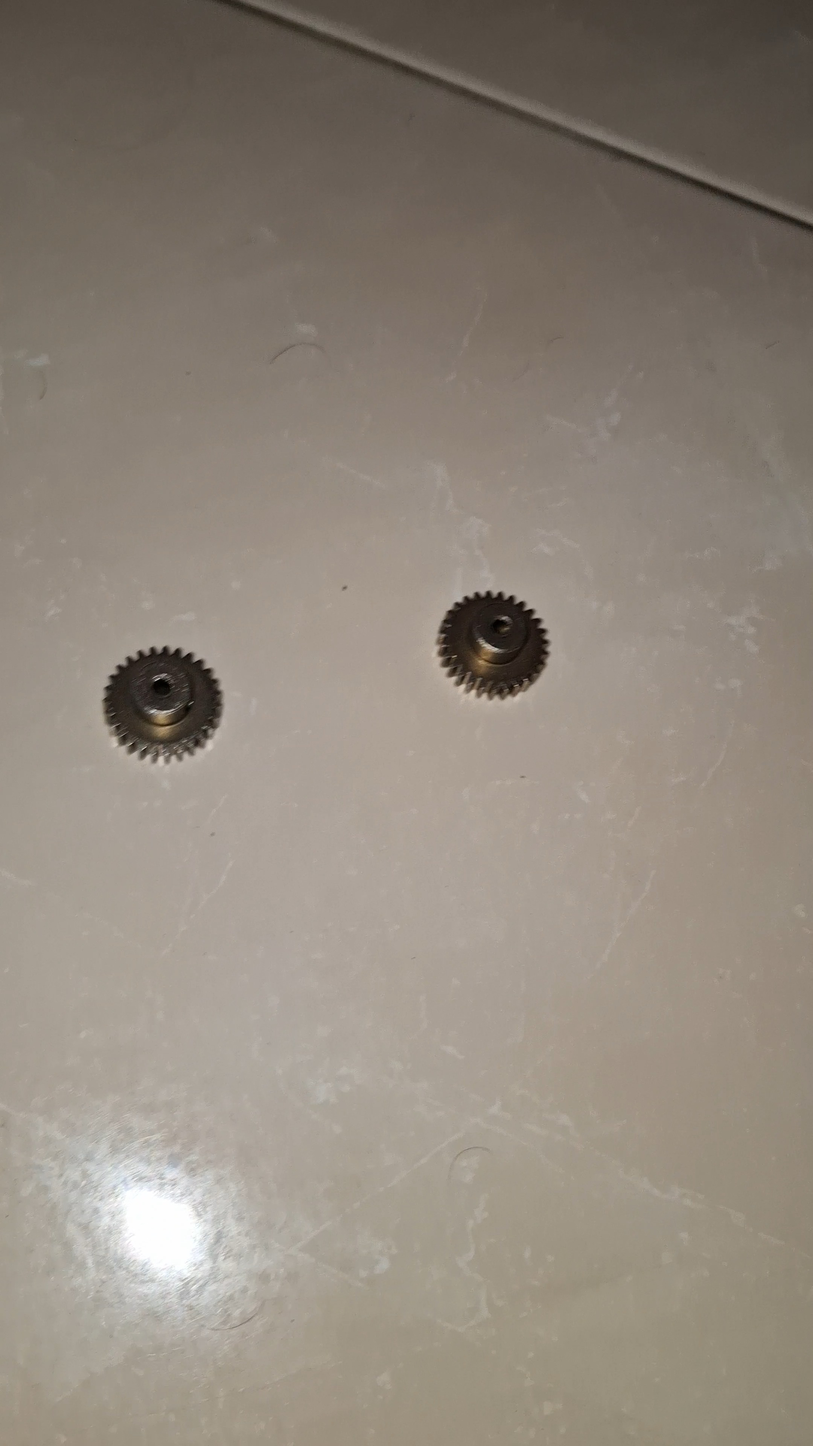spur gear: (104, 647, 222, 760), (438, 592, 548, 697)
